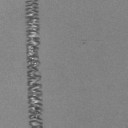slag inclusion: (25, 0, 43, 128)
